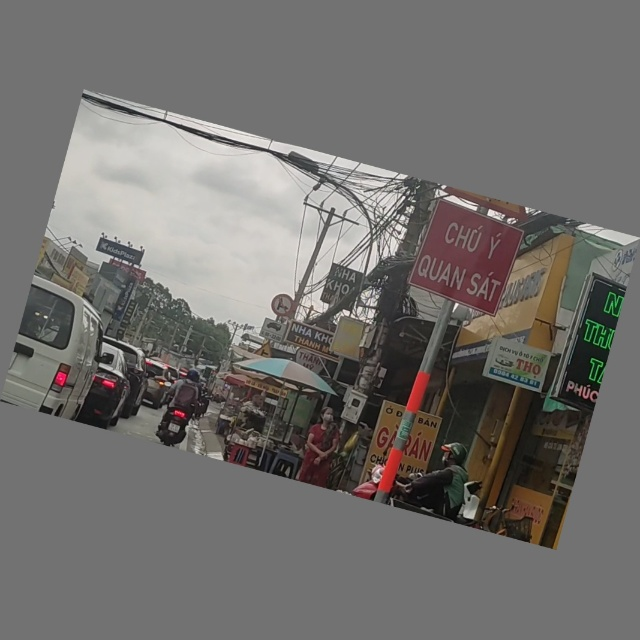P.139: (266, 290, 297, 322)
S.505a*Xe tai: (258, 318, 290, 343)
W.205b: (251, 337, 280, 361)
